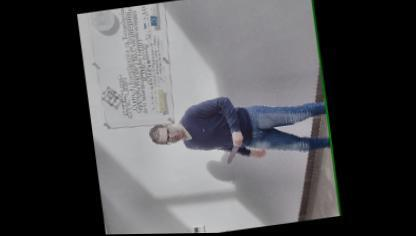knife: (223, 140, 244, 166)
